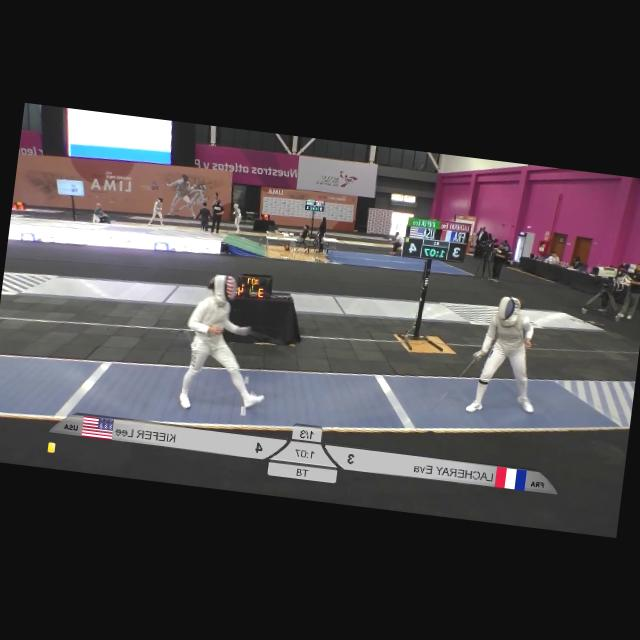blade: (428, 347, 481, 415), (241, 326, 306, 363)
